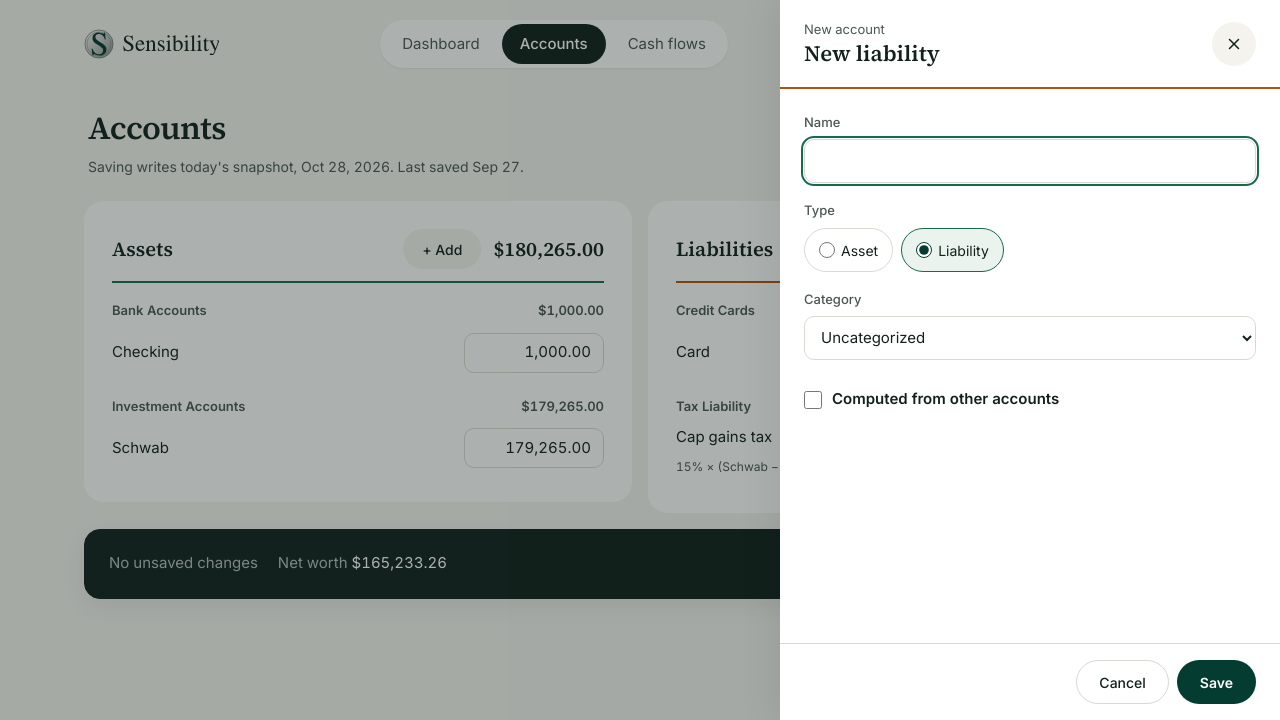
Test: the new account drawer › takes the type from the link, and the type switch retitles it
Check: the dialog "New liability" is shown, box [780, 0, 1279, 719]
Check: the radio button labelled "Liability" is checked, box [916, 242, 932, 258]
Click the radio button labelled "Asset".
click(827, 250)  # box [819, 242, 835, 258]
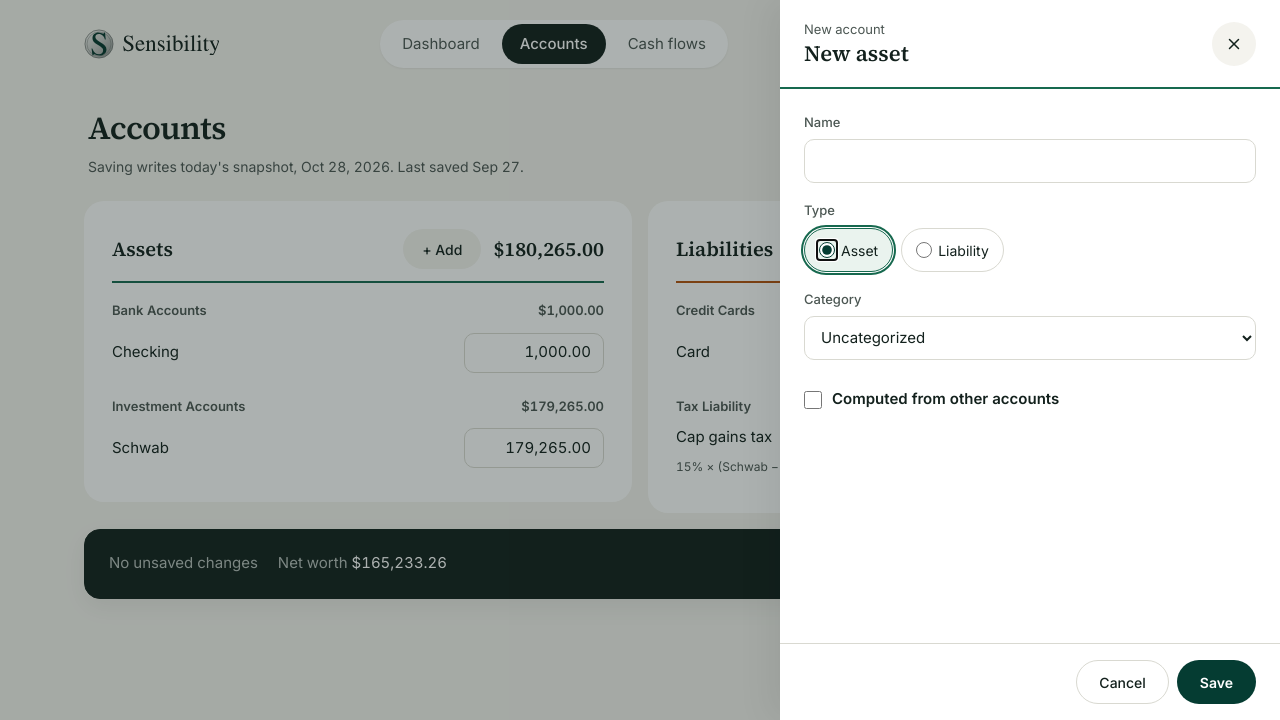
Check: the dialog "New asset" is shown, box [780, 0, 1279, 719]
